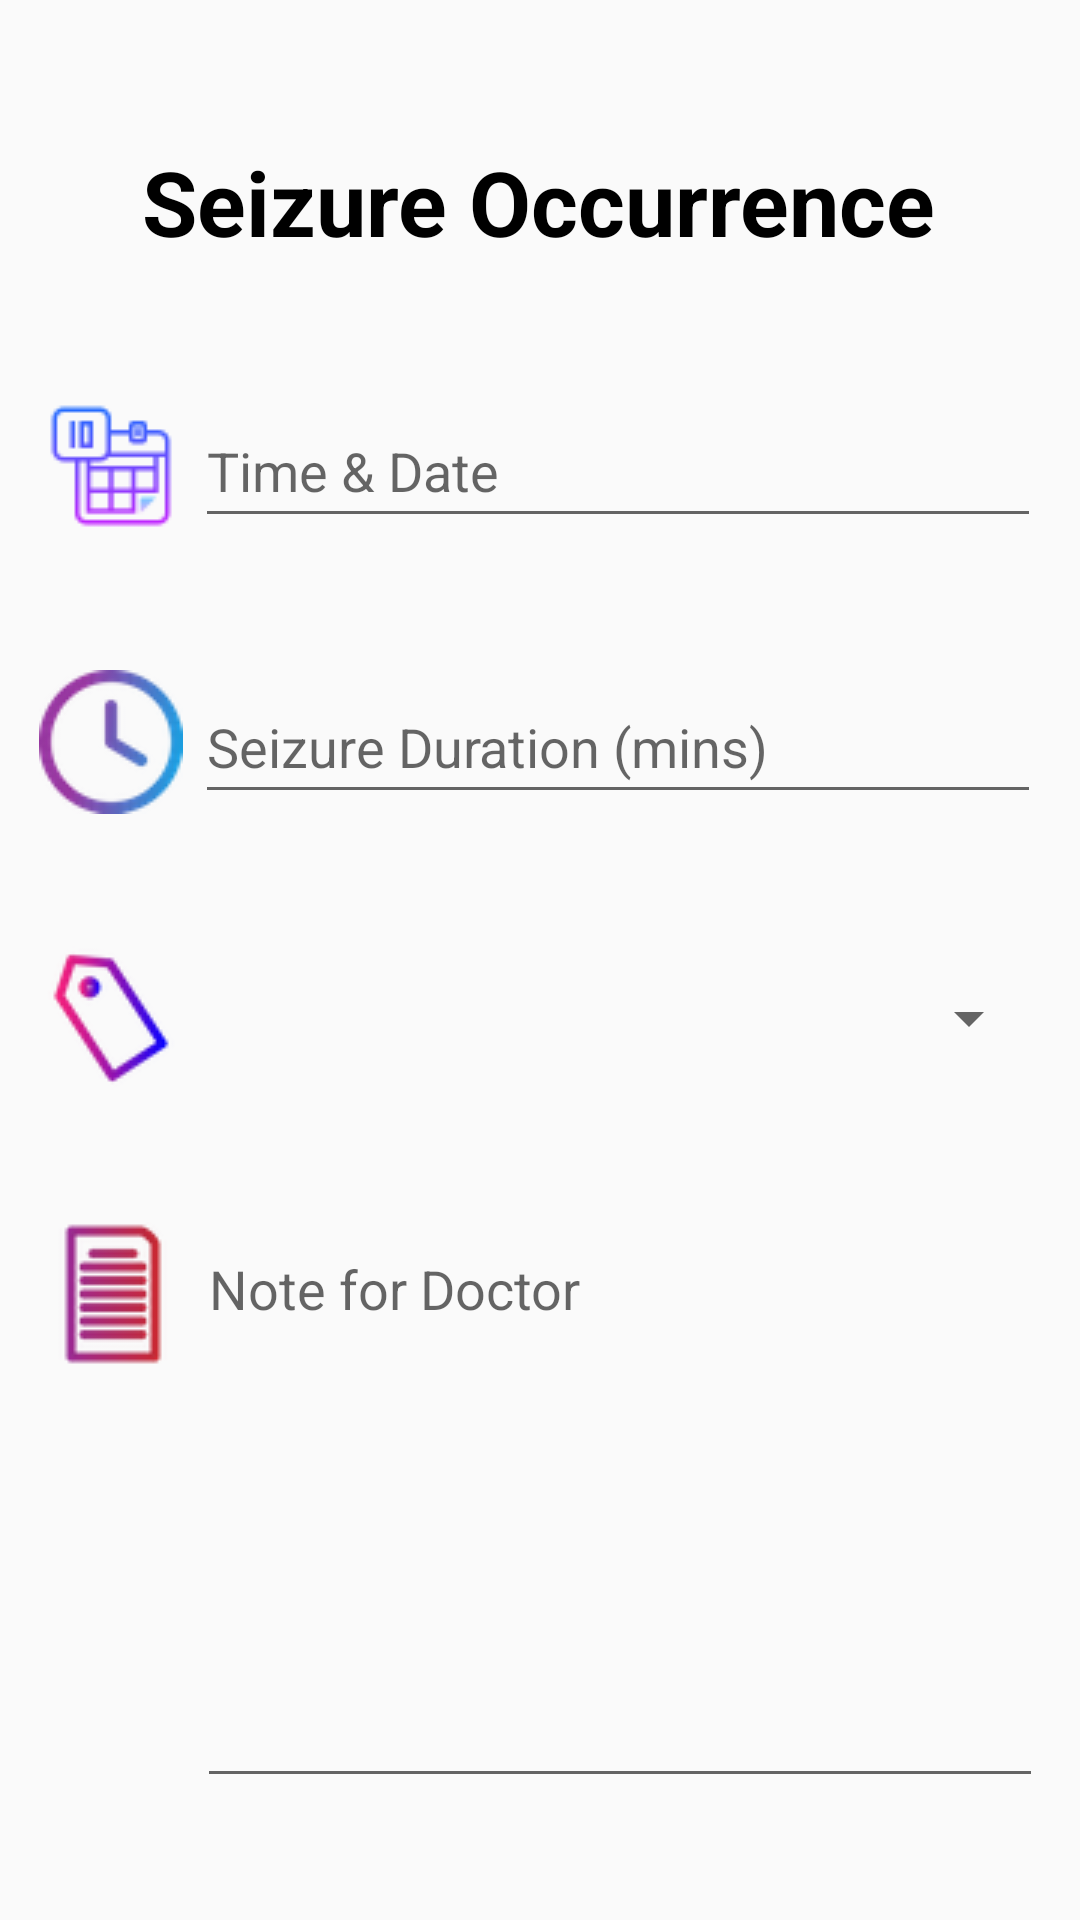

Screen size 1080 x 1920. Icon name, then its box in pixels as (x1, y1, x2, y2):
calendar: (50, 405, 172, 527)
clock: (39, 670, 183, 814)
document: (64, 1224, 162, 1364)
tag: (53, 954, 169, 1082)
